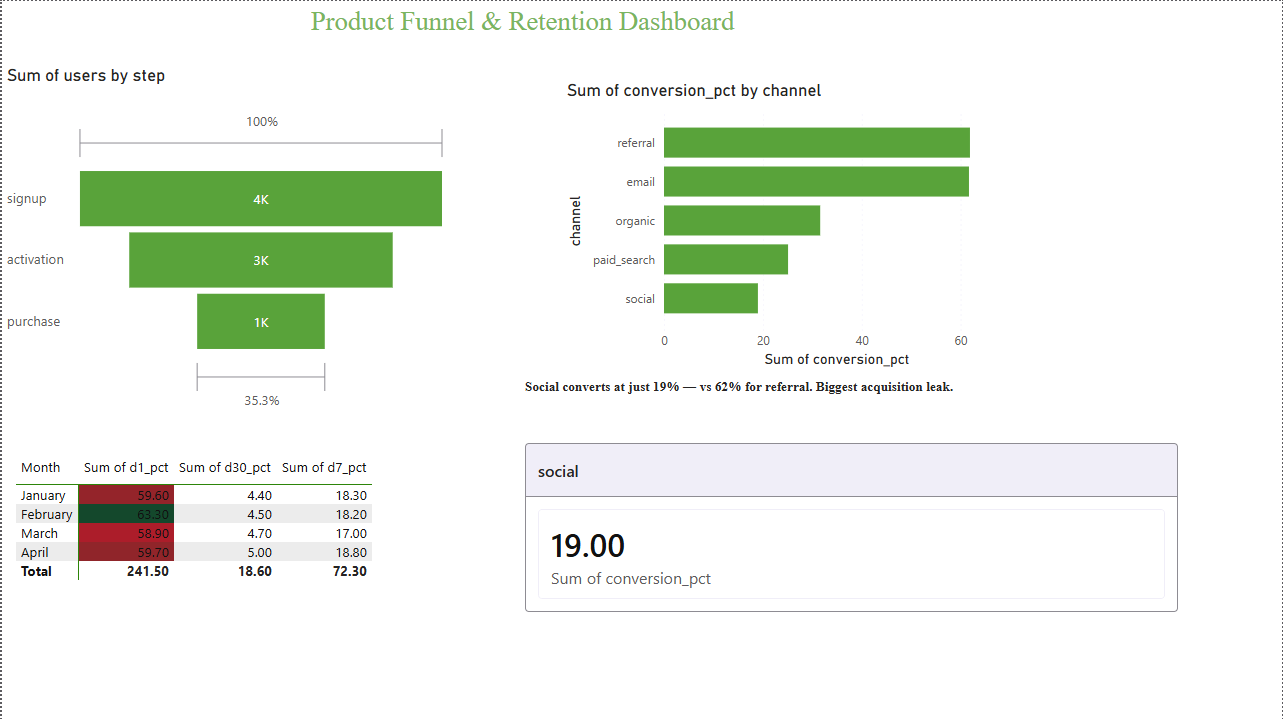

What the dashboard file says about the page in this screenshot:
{"tool":"powerbi","page":{"name":"Page 1","canvas":[1280,720],"ordinal":0},"visuals":[{"type":"funnel","fields":{"Y":["Sum(funnel_data.users)"],"Category":["funnel_data.step"]},"box":[0,63.9,449.6,371],"z":0},{"type":"clusteredBarChart","fields":{"Category":["channel_data.channel"],"Y":["Sum(channel_data.conversion_pct)"]},"box":[560.2,78.6,459.4,292.4],"z":1000},{"type":"pivotTable","fields":{"Rows":["retention_data.cohort_month.Variation.Date Hierarchy.Month"],"Values":["Sum(retention_data.d1_pct)","Sum(retention_data.d30_pct)","Sum(retention_data.d7_pct)"]},"box":[9.3,451.3,663.4,152.1],"z":2000},{"type":"cardVisual","fields":{"Data":["Sum(channel_data.conversion_pct)"],"Rows":["channel_data.channel"]},"box":[518,417.5,663.4,218.9],"z":3000},{"type":"textbox","box":[518,371,663.4,45.6],"z":3001},{"type":"textbox","box":[1019.6,78.6,162.1,61.4],"z":3002},{"type":"textbox","box":[289.9,0,461.4,64.2],"z":3003}]}

Visuals, with their boxes in screenshot pixels (x1, y1, x2, y2), scaled from the page's 1280x720 canvas onto the 1283x719 screenshot:
funnel - Sum(funnel_data.users) x funnel_data.step: (0, 64, 451, 434)
clusteredBarChart - channel_data.channel x Sum(channel_data.conversion_pct): (562, 78, 1022, 370)
pivotTable - retention_data.cohort_month.Variation.Date Hierarchy.Month x Sum(retention_data.d1_pct): (9, 451, 674, 603)
cardVisual - Sum(channel_data.conversion_pct) x channel_data.channel: (519, 417, 1184, 636)
textbox: (519, 370, 1184, 416)
textbox: (1022, 78, 1184, 140)
textbox: (291, 0, 753, 64)
